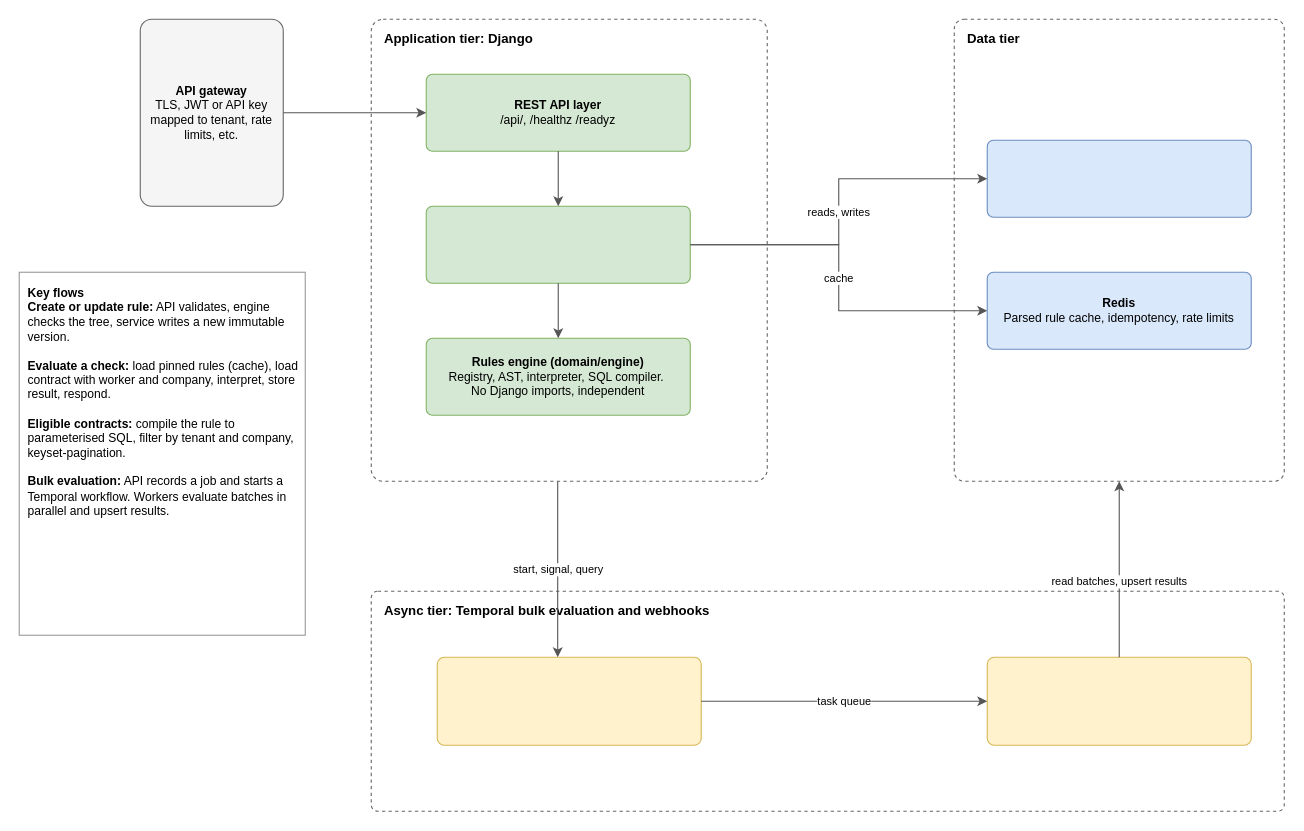
Some shapes in this 1304 by 831 pixel diagram are drawn without their labels. The centre of each missing label's shape, as x and y in pixels:
PostgreSQL RLS, constraints, rule and check versions, results: point (1118, 178)
Service layer Tenant context, use cases, idempotency keys: point (557, 244)
Temporal service BulkEvaluationWorkflow, task queue bulk-evaluation, web UI: point (568, 700)
Worker pool Django activities, imports domain/engine, runs as app_user: point (1118, 700)
